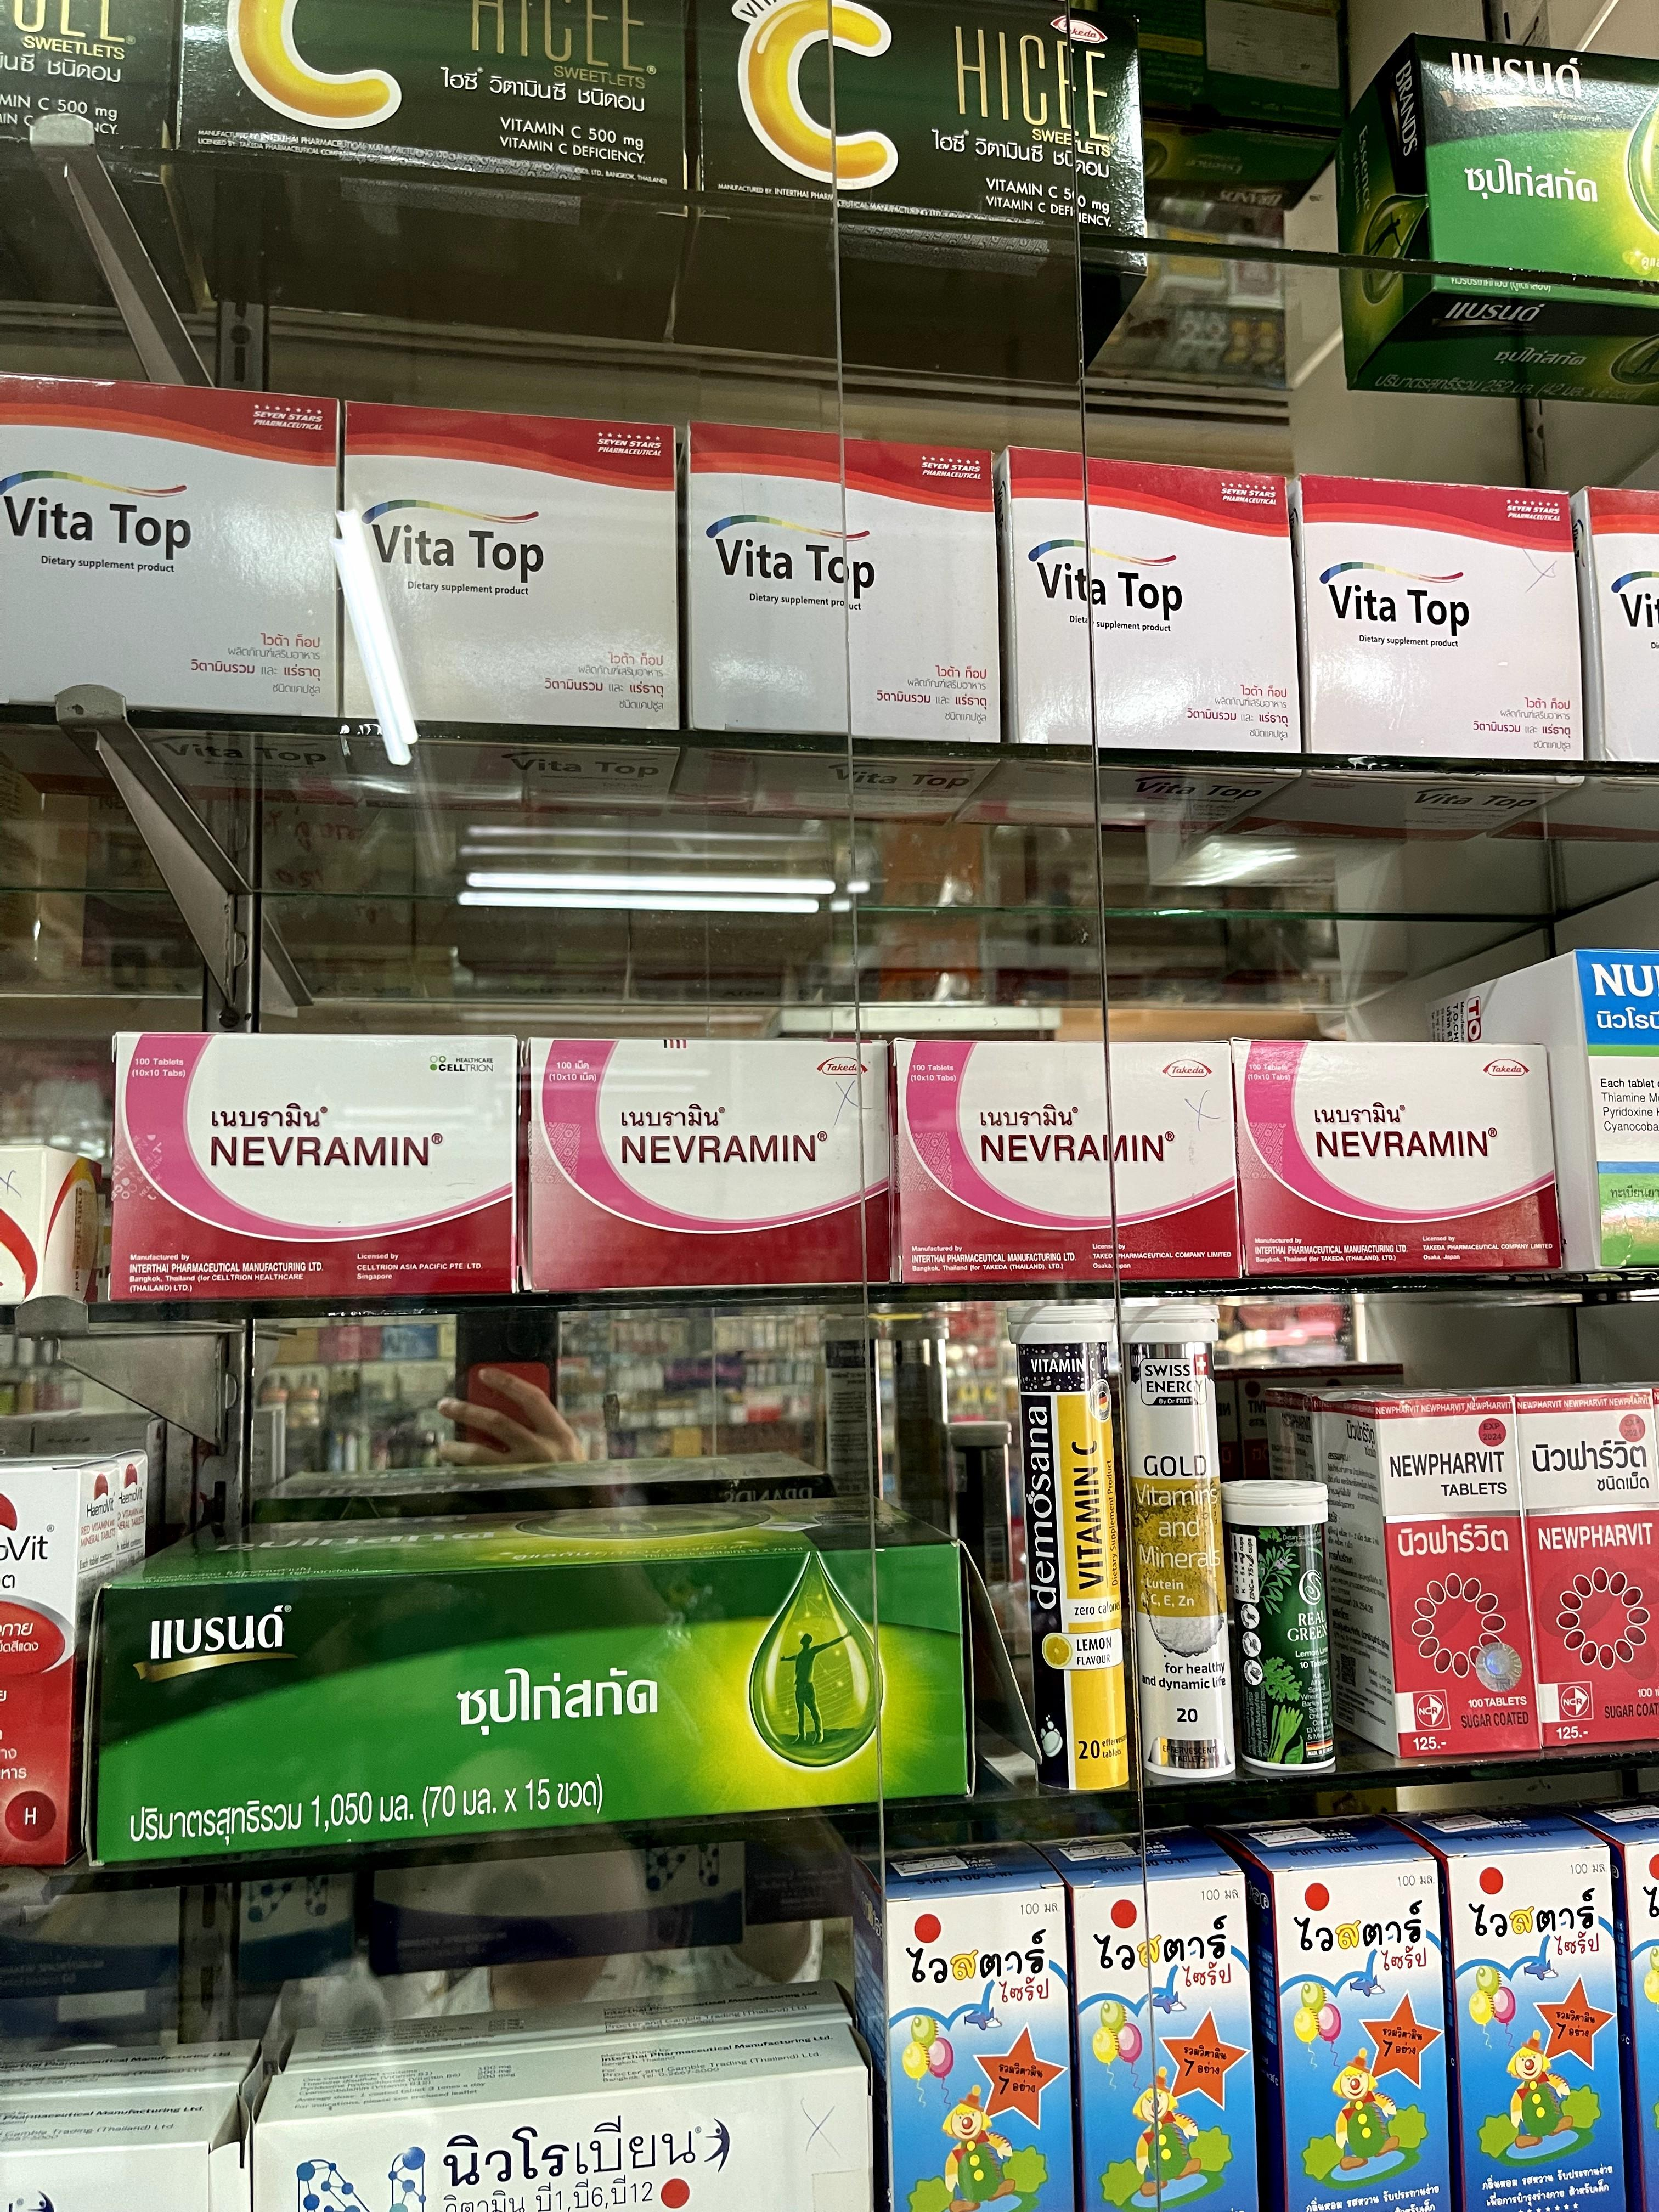Heamovit: (0, 1449, 96, 1867)
Nevramin: (117, 1026, 521, 1299), (532, 1035, 897, 1291), (894, 1040, 1244, 1285), (1239, 1038, 1563, 1273)
Newpharvit: (1326, 1390, 1541, 1752), (1523, 1386, 1659, 1743)
